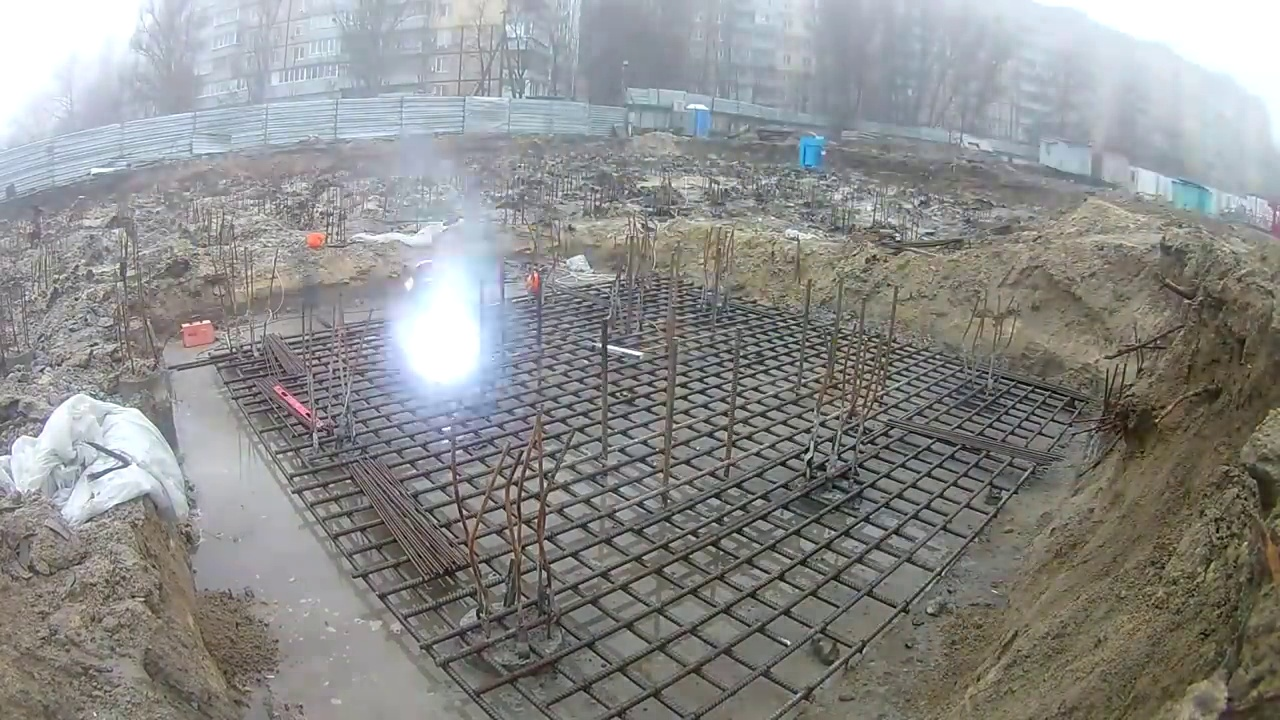helmet: (523, 270, 541, 299), (304, 232, 325, 249)
